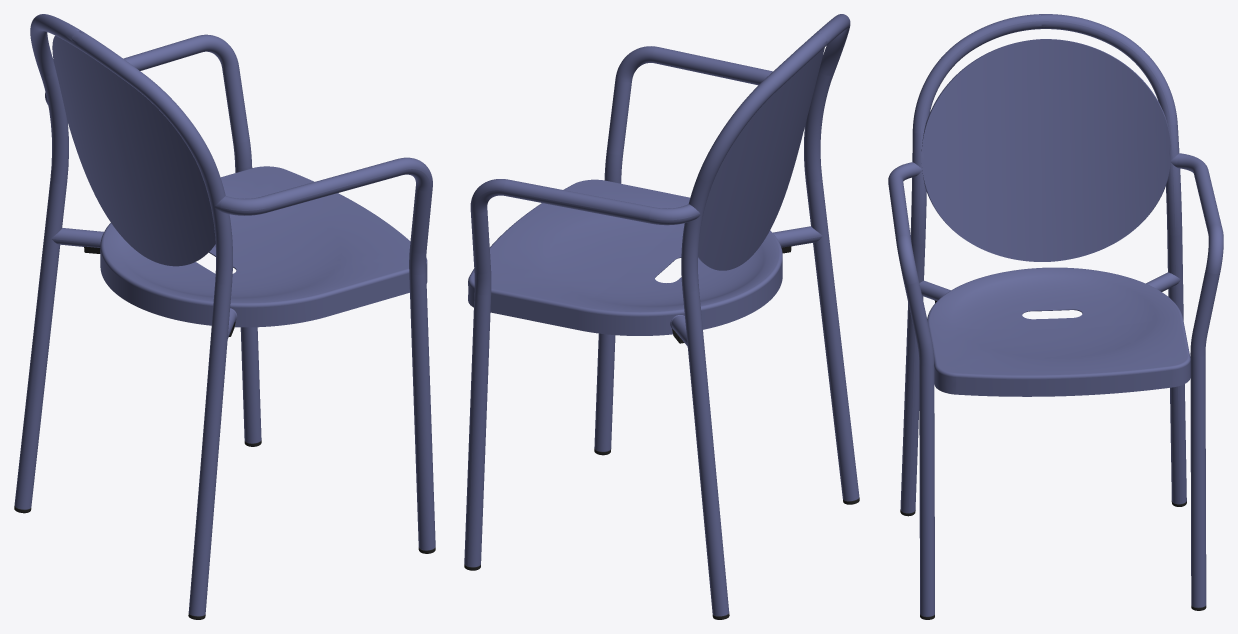
The model's file is louisearmchair.glb.
The picture shows the model from 3 angles, left to right: view 1: azimuth 30°, elevation 25°; view 2: azimuth 150°, elevation 25°; view 3: azimuth 270°, elevation 25°; orthographic projection. The views are drawn at different scales.
Visible parts, largest first — view 1: Brep.1110, Brep.1119, Brep.1117, Brep.1111, Brep.1115, Brep.1112, Brep.1122; view 2: Brep.1110, Brep.1119, Brep.1115, Brep.1112, Brep.1117, Brep.1111, Brep.1122; view 3: Brep.1119, Brep.1110, Brep.1117, Brep.1112, Brep.1111, Brep.1115, Brep.1122.
Part boxes in pixels (left/top/right/bottom): Brep.1110: left=100, top=166, right=427, bottom=327; Brep.1119: left=52, top=35, right=215, bottom=266; Brep.1117: left=71, top=31, right=232, bottom=616; Brep.1111: left=214, top=157, right=435, bottom=550; Brep.1115: left=14, top=14, right=81, bottom=509; Brep.1112: left=45, top=34, right=261, bottom=443; Brep.1122: left=51, top=228, right=236, bottom=338; Brep.1110: left=468, top=179, right=782, bottom=335; Brep.1119: left=698, top=47, right=824, bottom=270; Brep.1115: left=681, top=32, right=827, bottom=616; Brep.1112: left=464, top=179, right=700, bottom=567; Brep.1117: left=804, top=14, right=859, bottom=501; Brep.1111: left=594, top=46, right=772, bottom=451; Brep.1122: left=671, top=226, right=822, bottom=346; Brep.1119: left=921, top=39, right=1170, bottom=261; Brep.1110: left=927, top=267, right=1190, bottom=396; Brep.1117: left=900, top=14, right=1041, bottom=513; Brep.1112: left=1170, top=153, right=1223, bottom=607; Brep.1111: left=888, top=162, right=934, bottom=616; Brep.1115: left=1041, top=14, right=1186, bottom=504; Brep.1122: left=919, top=272, right=1180, bottom=300.
Size of the model in its own units: 0.5284 by 0.878 by 0.5564.
